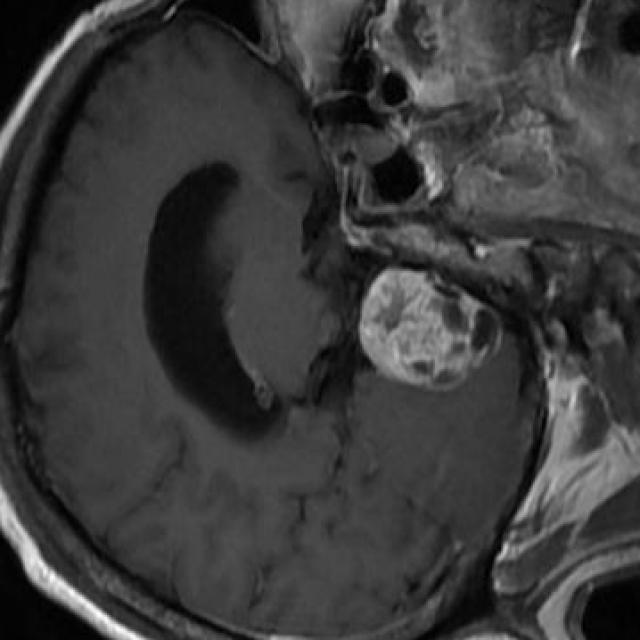meningioma: (362, 267, 497, 394)
